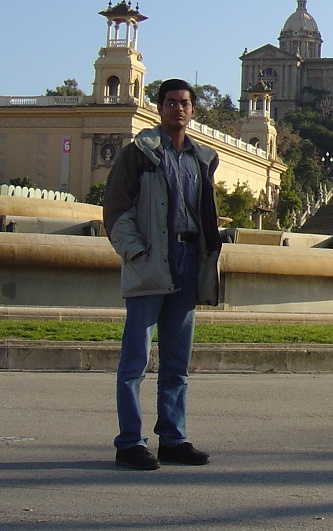person: (110, 80, 214, 469)
